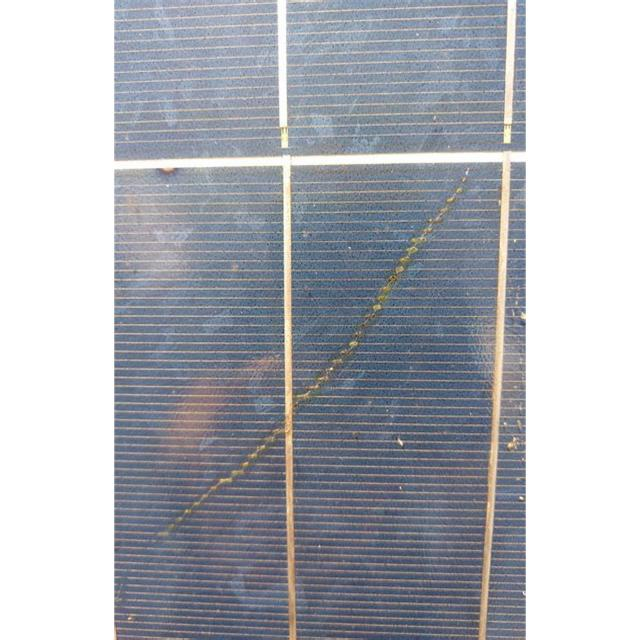dusty: (119, 5, 516, 631)
